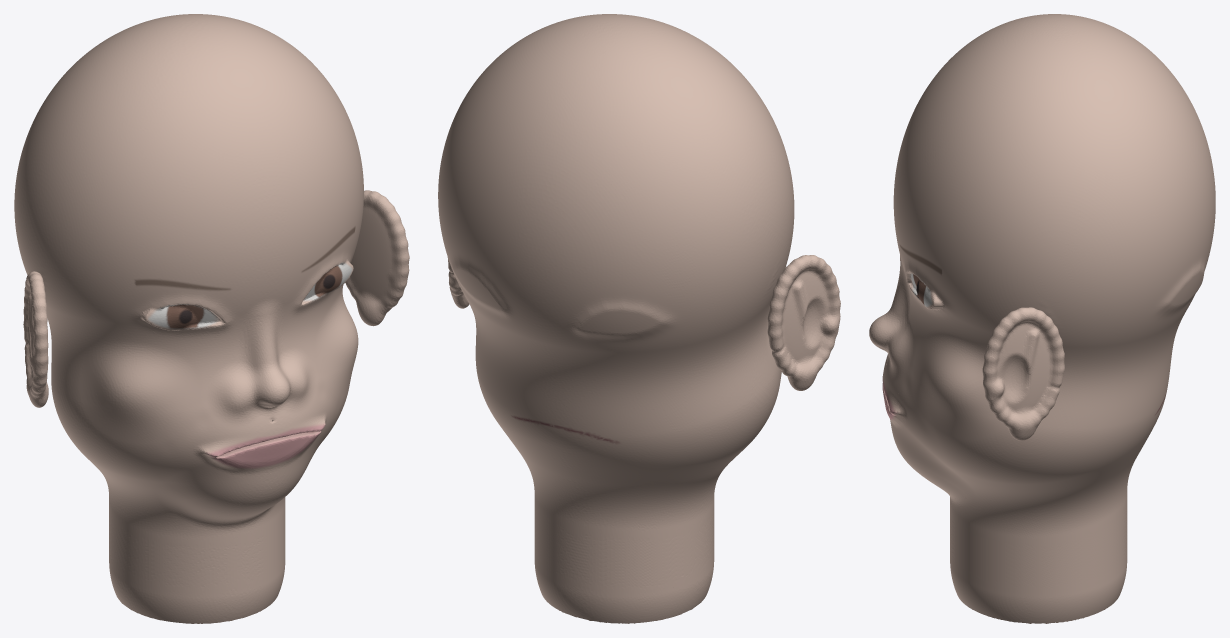
The model's file is karma_face_stage1_O_neutral_EXPERIMENT.glb.
3 renders of one model, left to right at view 1: azimuth 30°, elevation 25°; view 2: azimuth 150°, elevation 25°; view 3: azimuth 270°, elevation 25°, orthographic.
Parts seen in each view (by area): view 1: head; view 2: head; view 3: head.
Part boxes in pixels (bbox=[...]): head: bbox=[14, 14, 409, 623]; head: bbox=[438, 14, 840, 623]; head: bbox=[869, 14, 1215, 623].
Bounding box in the file's own units: 2.7 × 3.83 × 2.15.
